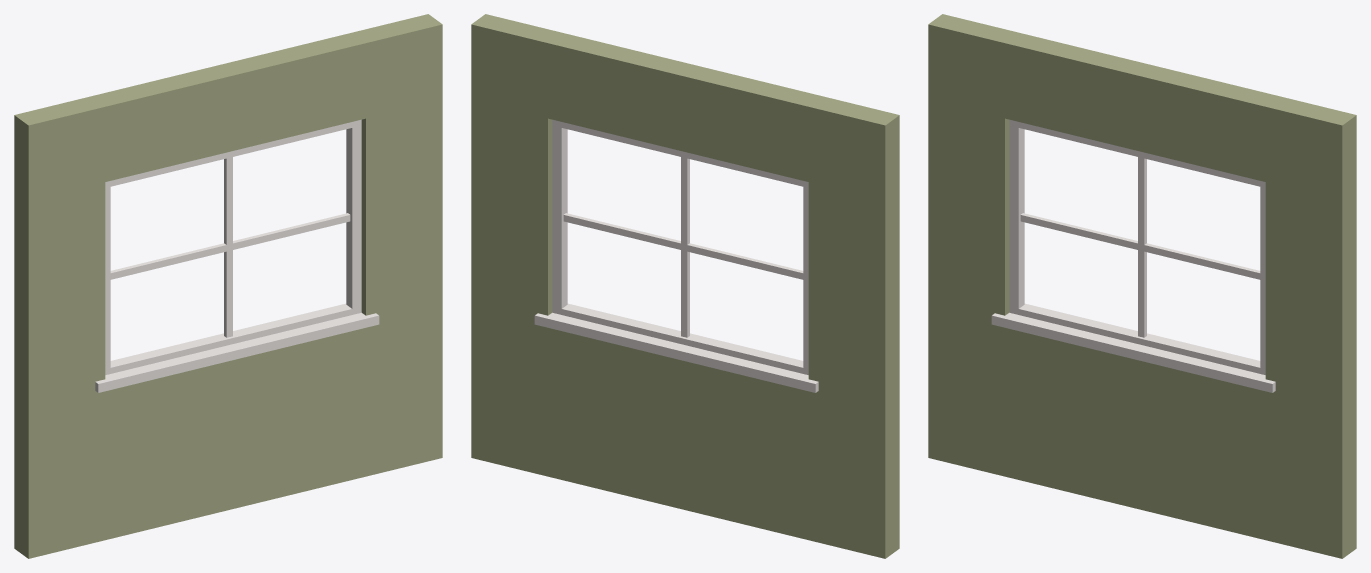
The model's file is Wall_12.fbx.
3 renders of one model, left to right at view 1: azimuth 30°, elevation 25°; view 2: azimuth 150°, elevation 25°; view 3: azimuth 330°, elevation 25°, orthographic.
Visible parts, largest first — view 1: Wall_12; view 2: Wall_12; view 3: Wall_12.
Part boxes in pixels (x1,y1,x2,y2): Wall_12: (14, 14, 442, 558); Wall_12: (471, 14, 899, 558); Wall_12: (928, 14, 1356, 558).
Size of the model in its own units: 259 by 259 by 22.34.
